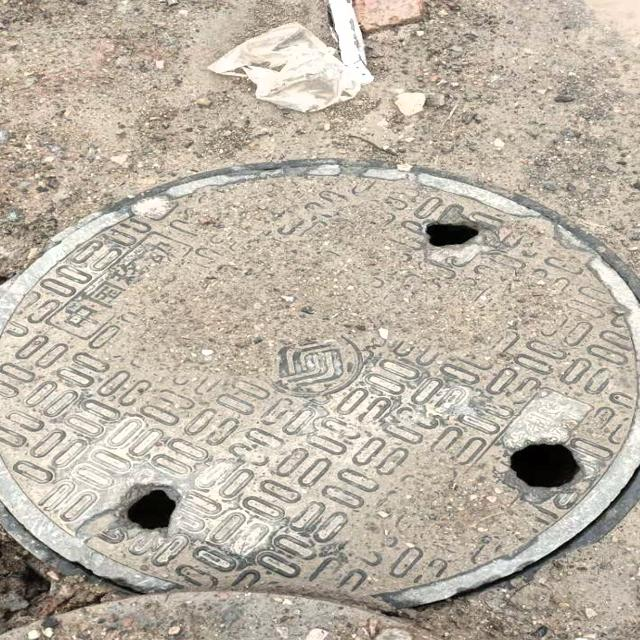broke: (0, 158, 640, 614)
